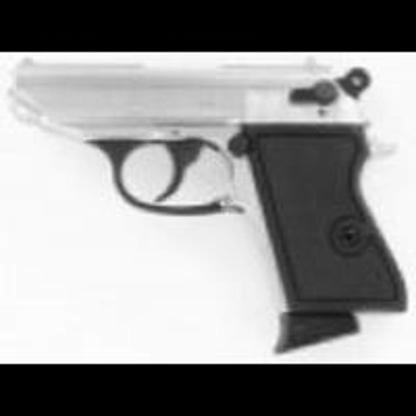weapon: (4, 58, 409, 356)
